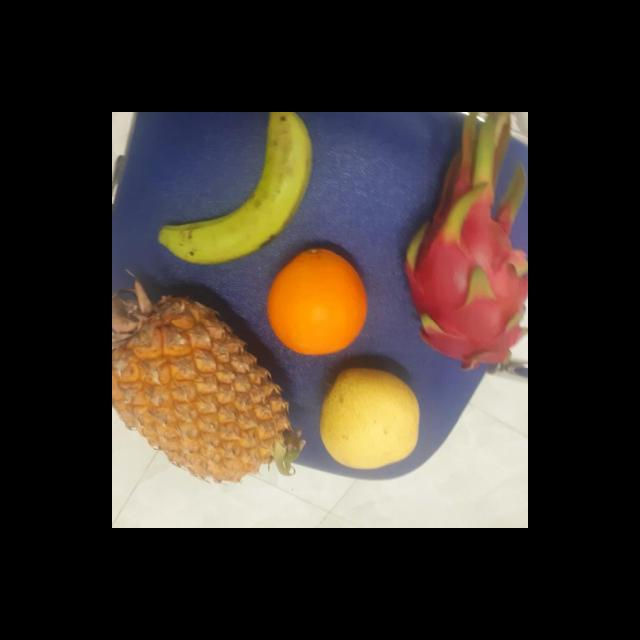banana: (157, 116, 316, 270)
guava: (268, 248, 371, 354)
orange: (266, 248, 371, 356)
pear: (317, 368, 424, 470)
pineapple: (112, 296, 298, 485)
pitaya: (406, 193, 528, 370)
